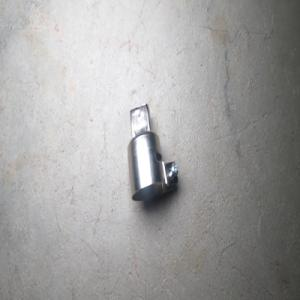MetalPart: (126, 102, 178, 201)
